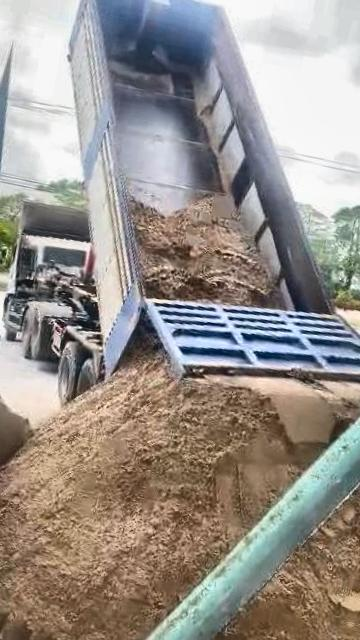sand: (0, 349, 320, 640), (173, 481, 360, 640), (132, 198, 282, 308), (200, 375, 360, 464), (0, 382, 32, 513)
